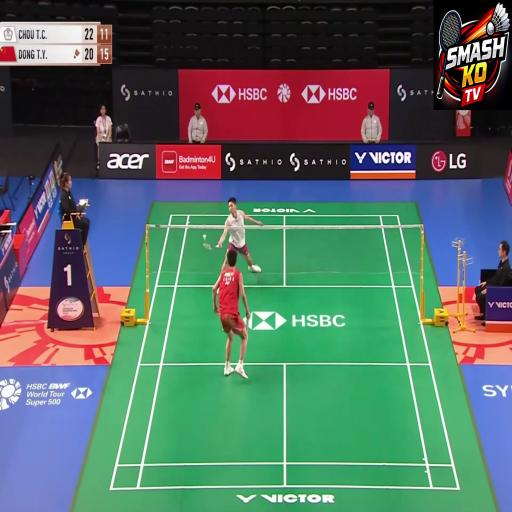player: (222, 262, 260, 390), (215, 188, 256, 268)
